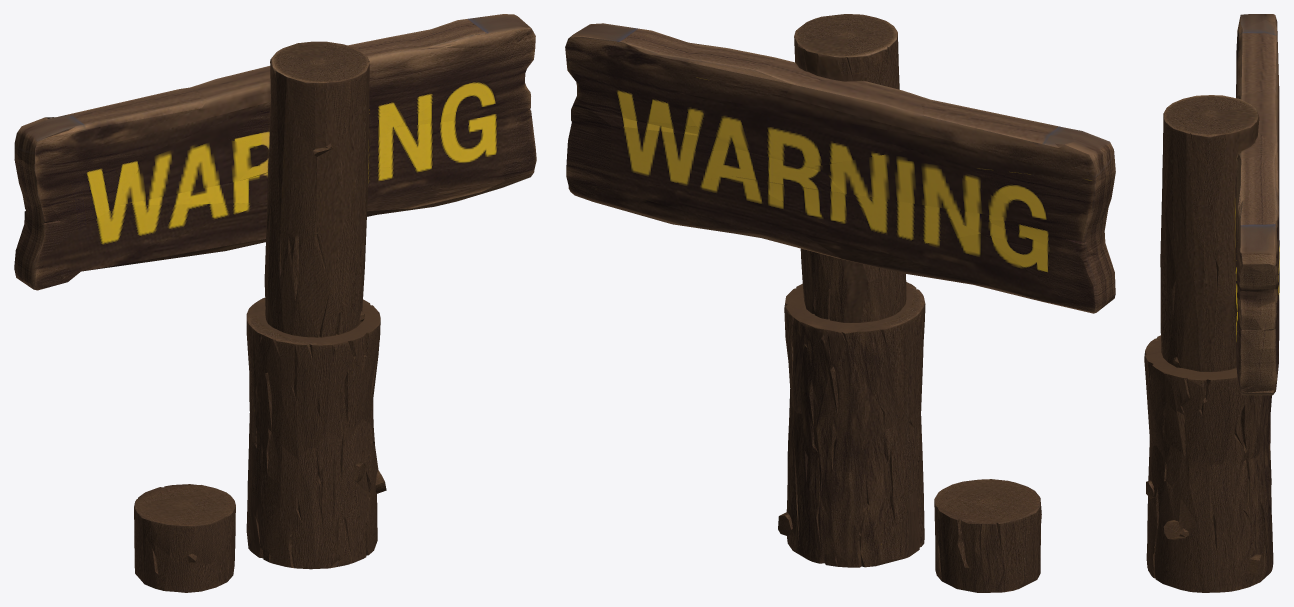
Rendered from sign.glb.
3 renders of one model, left to right at view 1: azimuth 30°, elevation 25°; view 2: azimuth 150°, elevation 25°; view 3: azimuth 270°, elevation 25°, orthographic. The views are drawn at different scales.
Bounding box in the file's own units: 1.9 × 1.71 × 0.4607.
Materials: 1 (1 with a texture image).
